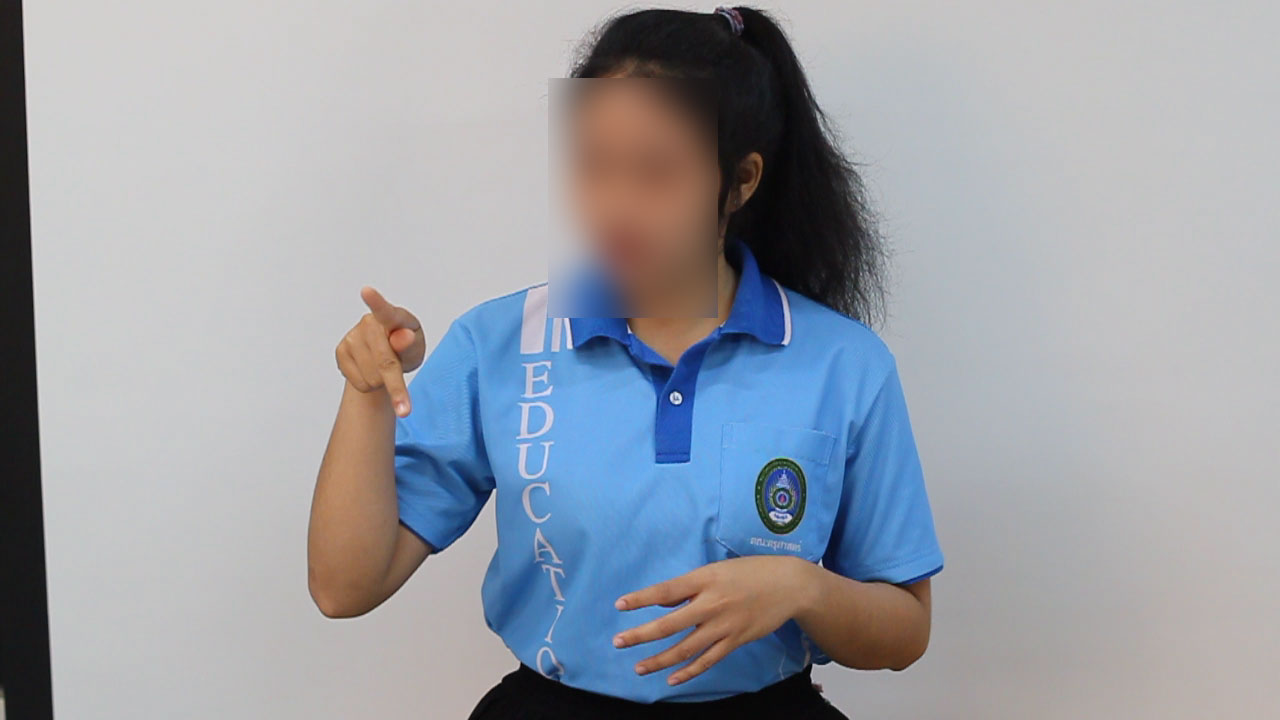por: (307, 263, 442, 430)
